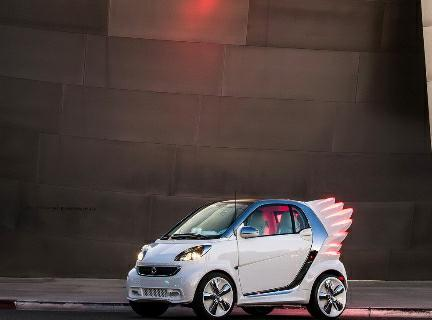smart-forjeremy: (126, 197, 348, 316)
